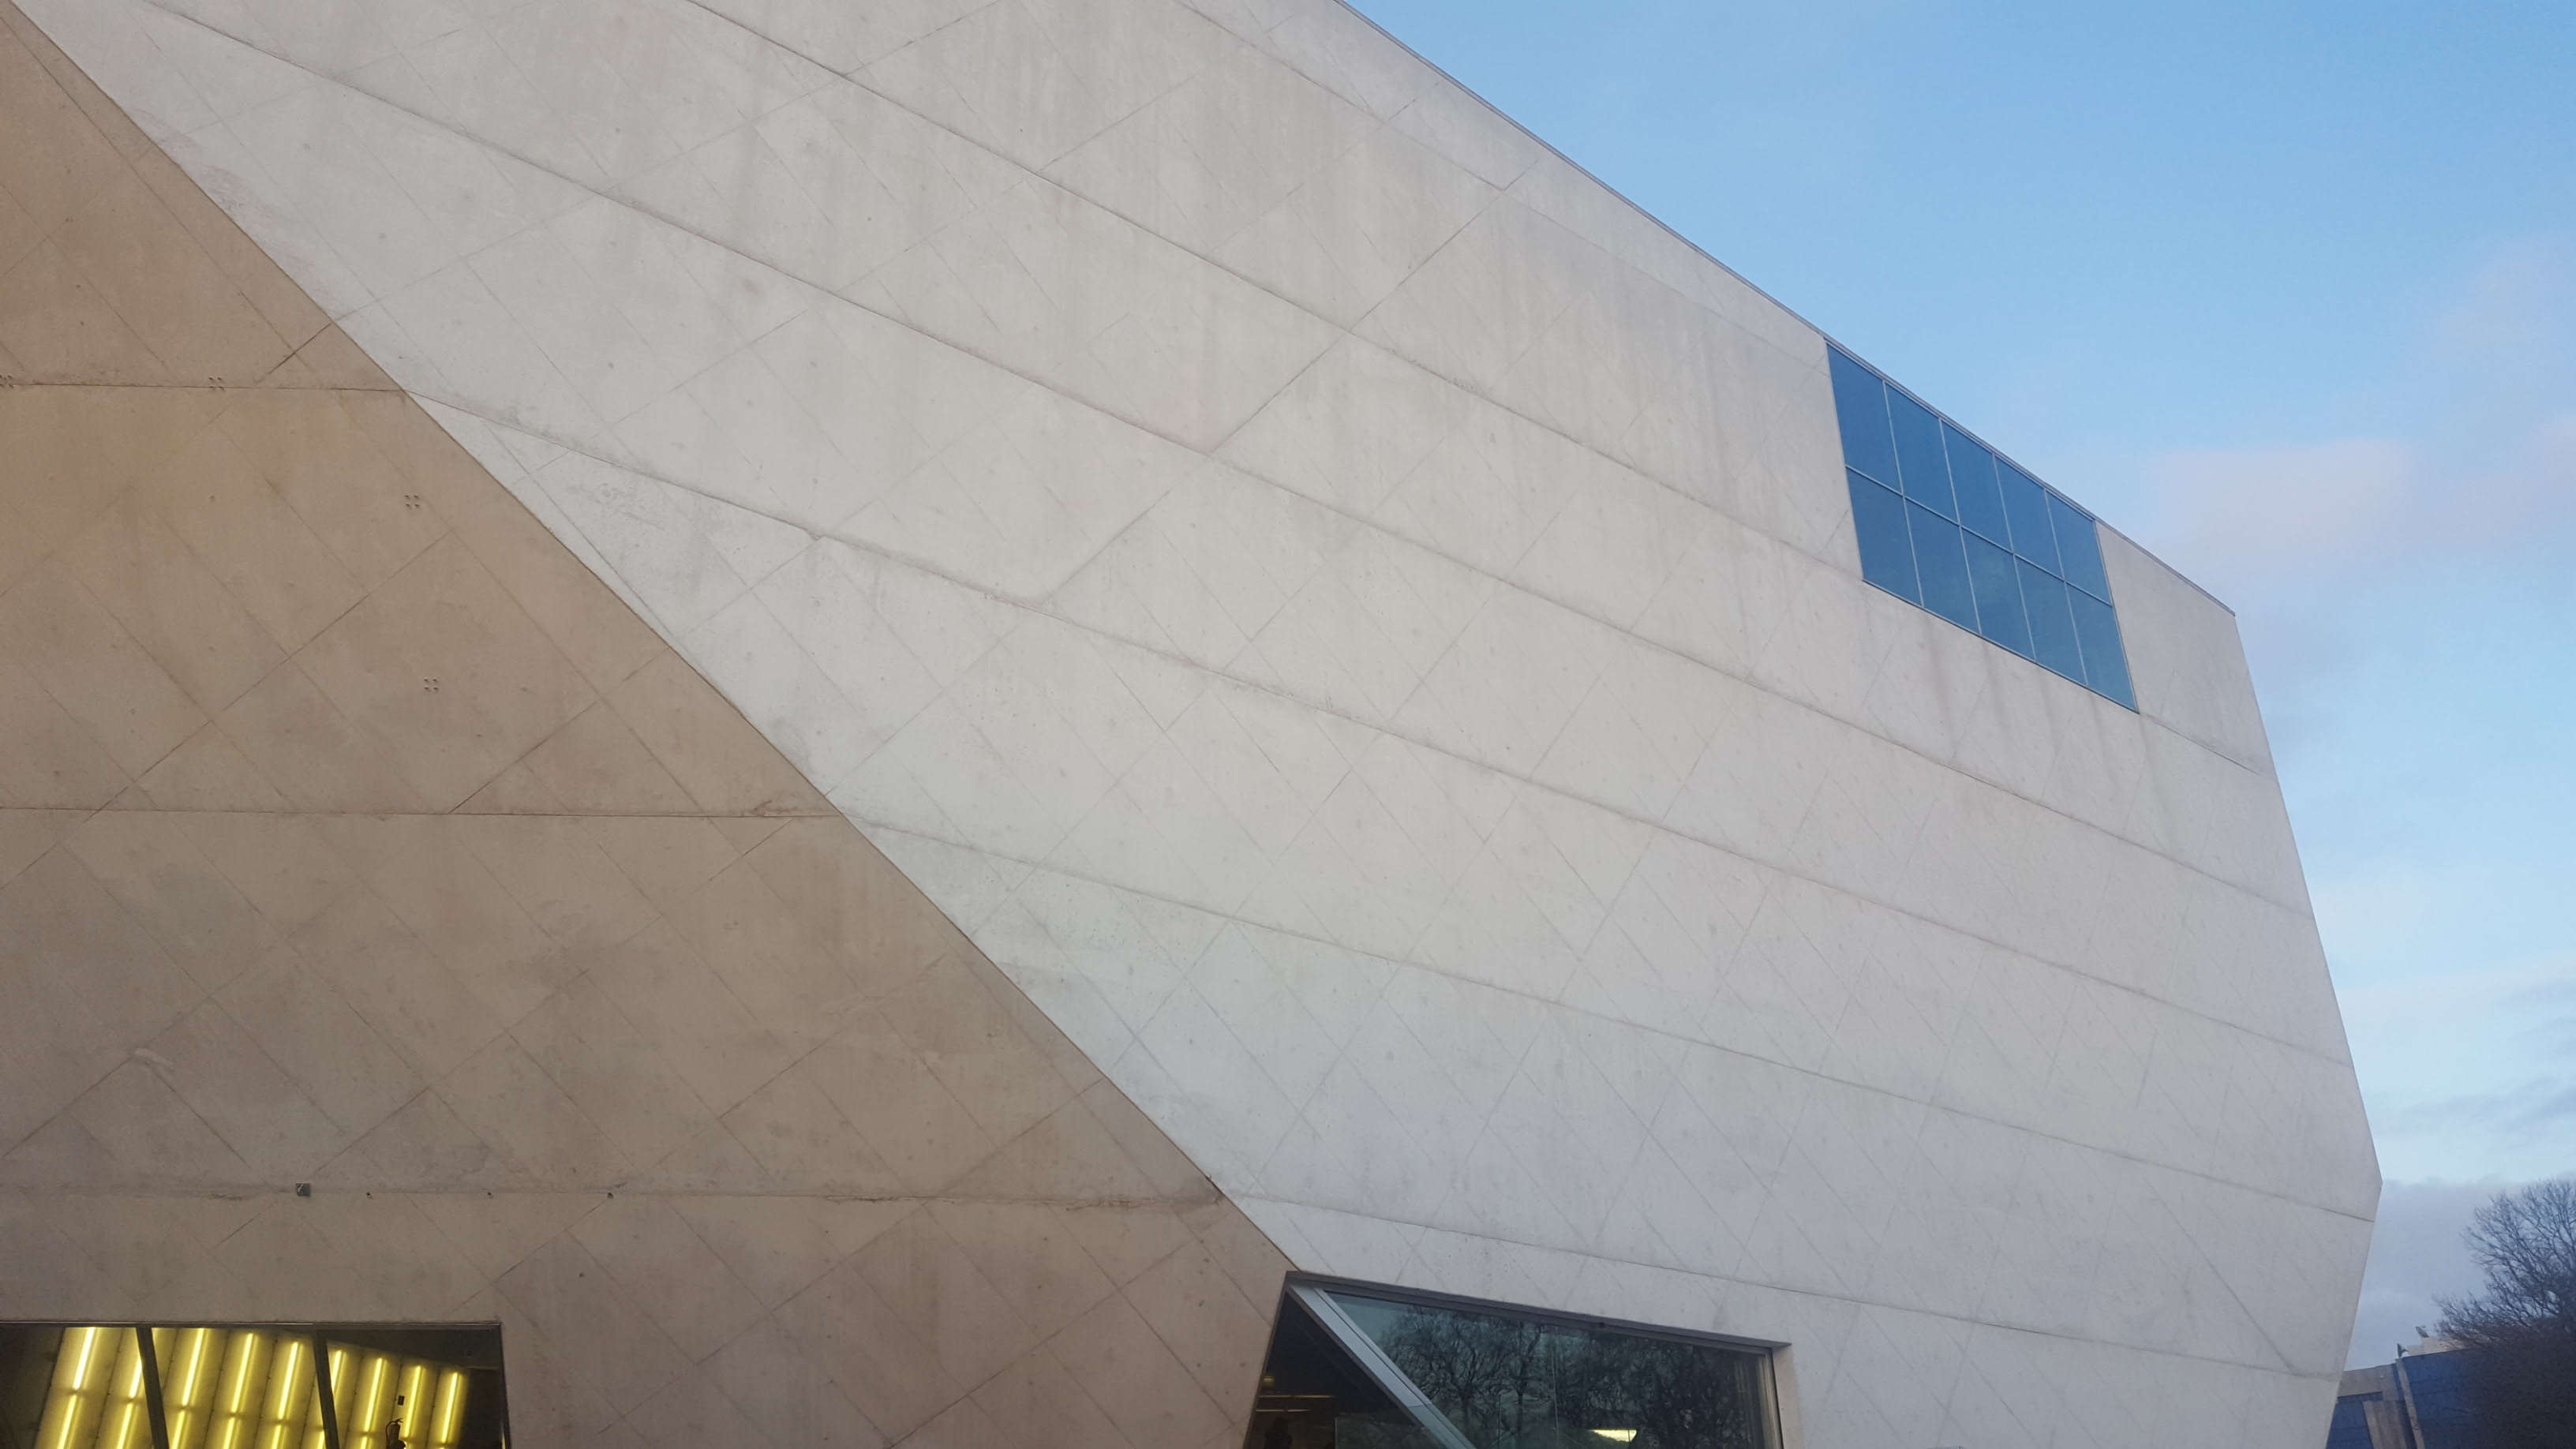musica: (0, 0, 2380, 1440)
